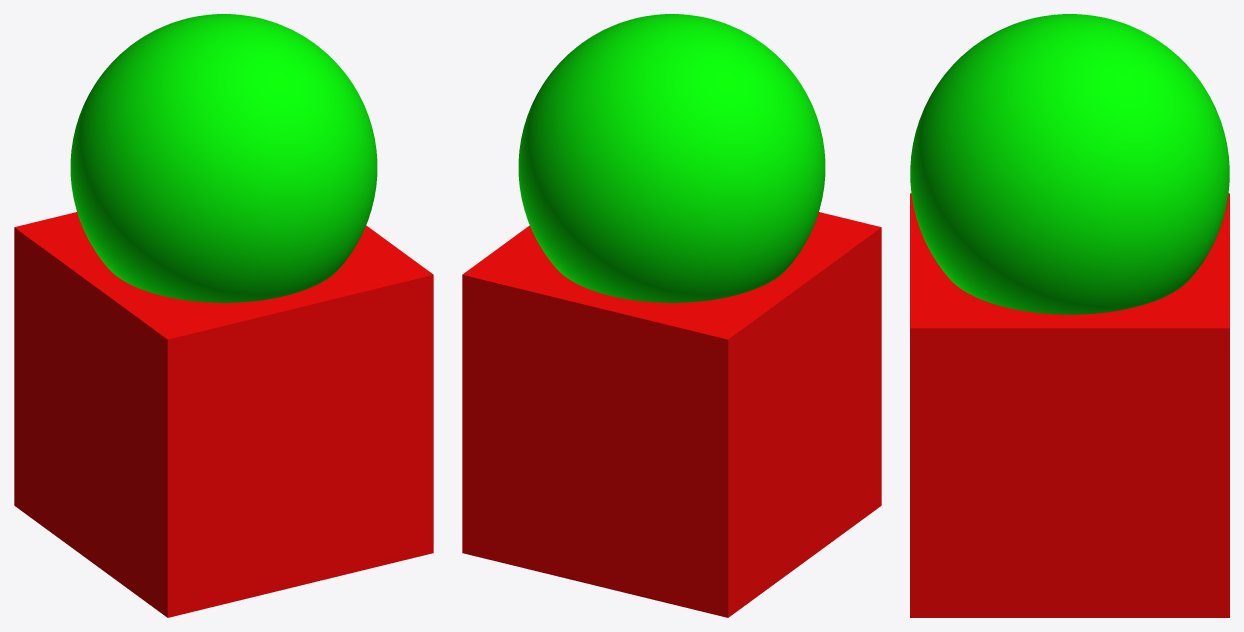
File: colored_assembly.glb
The picture shows the model from 3 angles, left to right: view 1: azimuth 30°, elevation 25°; view 2: azimuth 150°, elevation 25°; view 3: azimuth 270°, elevation 25°; orthographic projection. The views are drawn at different scales.
Parts seen in each view (by area): view 1: cube, sphere; view 2: cube, sphere; view 3: cube, sphere.
Boxes of the visible parts, left/top/right/bottom form: cube: left=14, top=212, right=433, bottom=617; sphere: left=70, top=14, right=377, bottom=302; cube: left=462, top=212, right=881, bottom=617; sphere: left=518, top=14, right=825, bottom=302; cube: left=910, top=193, right=1229, bottom=617; sphere: left=910, top=14, right=1229, bottom=314.
Size of the model in its own units: 10 by 18 by 10.
